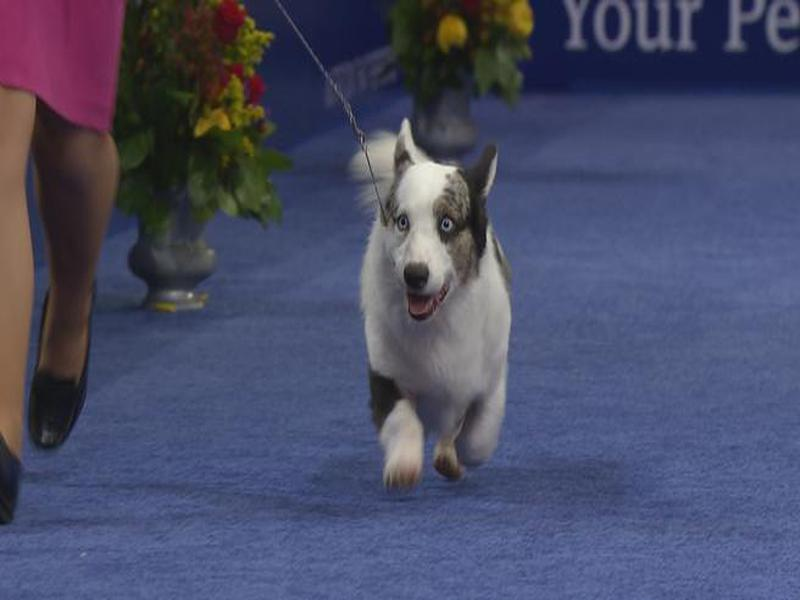corgi: (387, 118, 502, 322)
